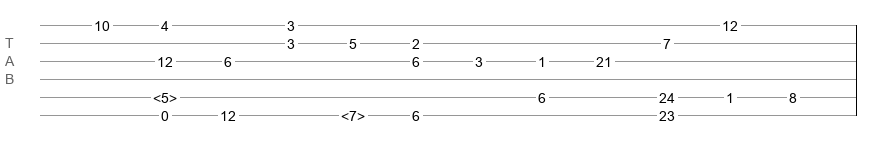0: (161, 108, 169, 118)
1: (538, 54, 546, 64), (726, 90, 734, 100)
10: (94, 18, 110, 28)
12: (157, 54, 173, 64), (220, 108, 236, 118), (722, 18, 738, 28)
2: (412, 36, 420, 46)
21: (596, 54, 612, 64)
23: (659, 108, 675, 118)
24: (659, 90, 675, 100)
3: (287, 18, 295, 28), (287, 36, 295, 46), (475, 54, 483, 64)
4: (161, 18, 169, 28)
5: (349, 36, 357, 46)
6: (224, 54, 232, 64), (412, 108, 420, 118), (412, 54, 420, 64), (538, 90, 546, 100)
7: (663, 36, 671, 46)
8: (789, 90, 797, 100)
harmonic: (153, 90, 177, 100), (341, 108, 365, 118)
